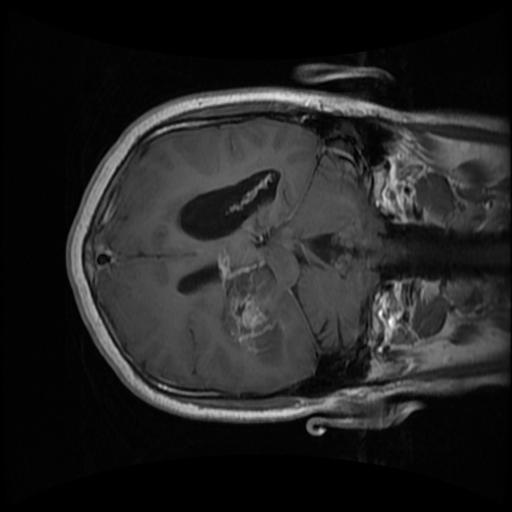glioma: (217, 250, 282, 367)
